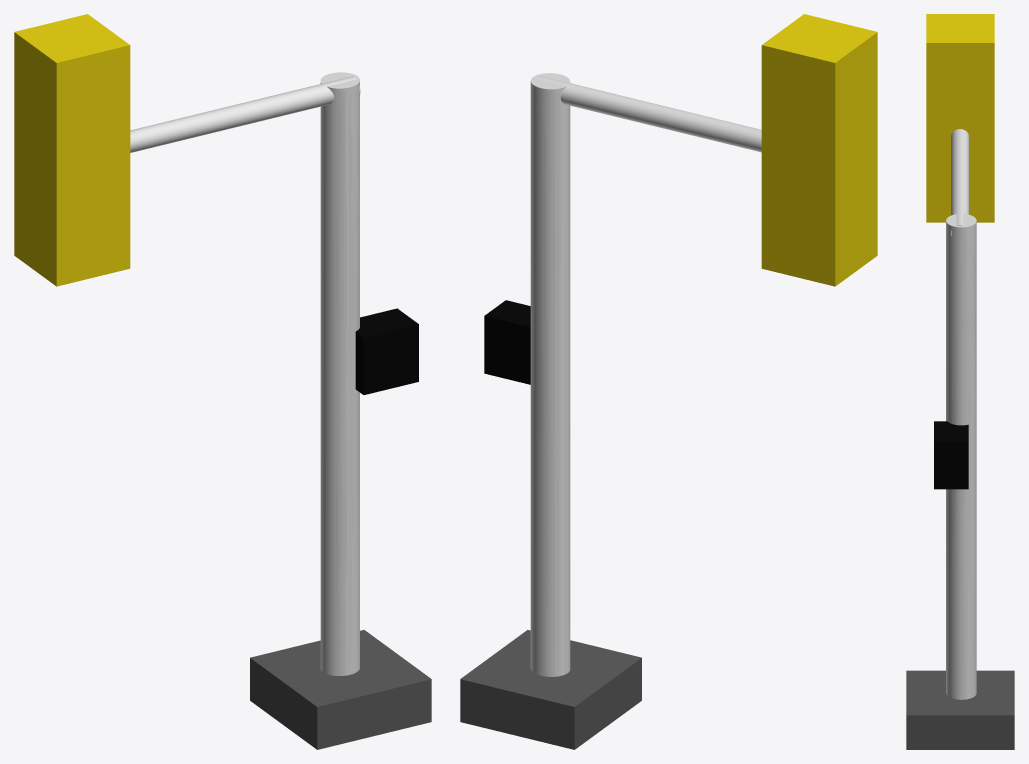
File: trafficlight.glb
The picture shows the model from 3 angles, left to right: view 1: azimuth 30°, elevation 25°; view 2: azimuth 150°, elevation 25°; view 3: azimuth 270°, elevation 25°; orthographic projection. The views are drawn at different scales.
Parts seen in each view (by area): view 1: mesh_id76, mesh_id33, mesh_id35, mesh_id44, mesh_id78; view 2: mesh_id76, mesh_id33, mesh_id35, mesh_id44, mesh_id78; view 3: mesh_id33, mesh_id76, mesh_id35, mesh_id78, mesh_id44.
Part boxes in pixels (x1,y1,x2,y2): mesh_id76: [14, 14, 130, 286]; mesh_id33: [320, 72, 359, 675]; mesh_id35: [250, 630, 431, 749]; mesh_id44: [130, 76, 360, 152]; mesh_id78: [355, 308, 418, 394]; mesh_id76: [761, 14, 877, 286]; mesh_id33: [530, 73, 570, 676]; mesh_id35: [460, 630, 641, 749]; mesh_id44: [536, 75, 761, 152]; mesh_id78: [484, 300, 530, 384]; mesh_id33: [946, 214, 976, 699]; mesh_id76: [926, 14, 994, 222]; mesh_id35: [906, 670, 1014, 749]; mesh_id78: [934, 421, 968, 489]; mesh_id44: [951, 129, 968, 236].
Bounding box in the file's own units: 0.5449 × 1.05 × 0.1735.
5 materials, 5 textured.
